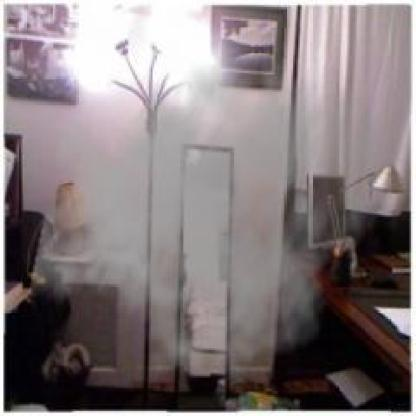Smoke: (28, 26, 392, 392)
